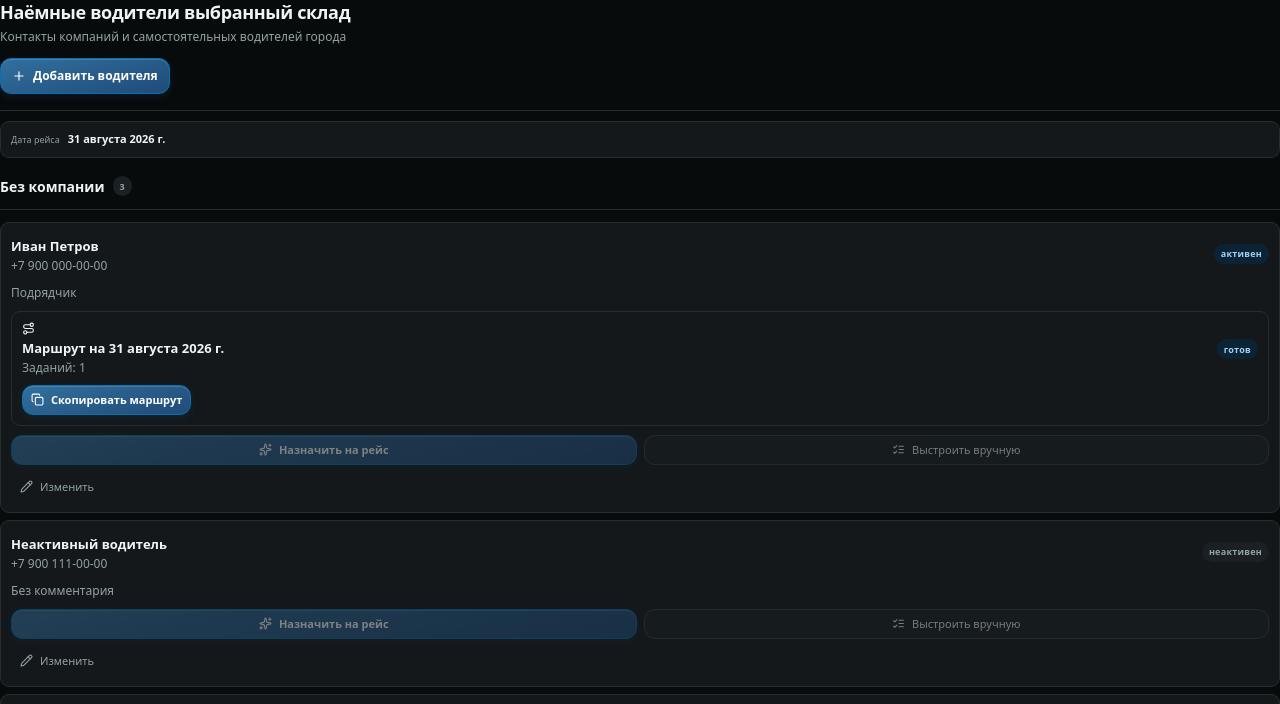
contractor assignment dialog › shows a selectable URL when clipboard access fails and a Russian error when share creation fails
The width and height of the screenshot is (1280, 704).
Click the button "Скопировать маршрут" at (107, 400), box left=22, top=385, right=191, bottom=415
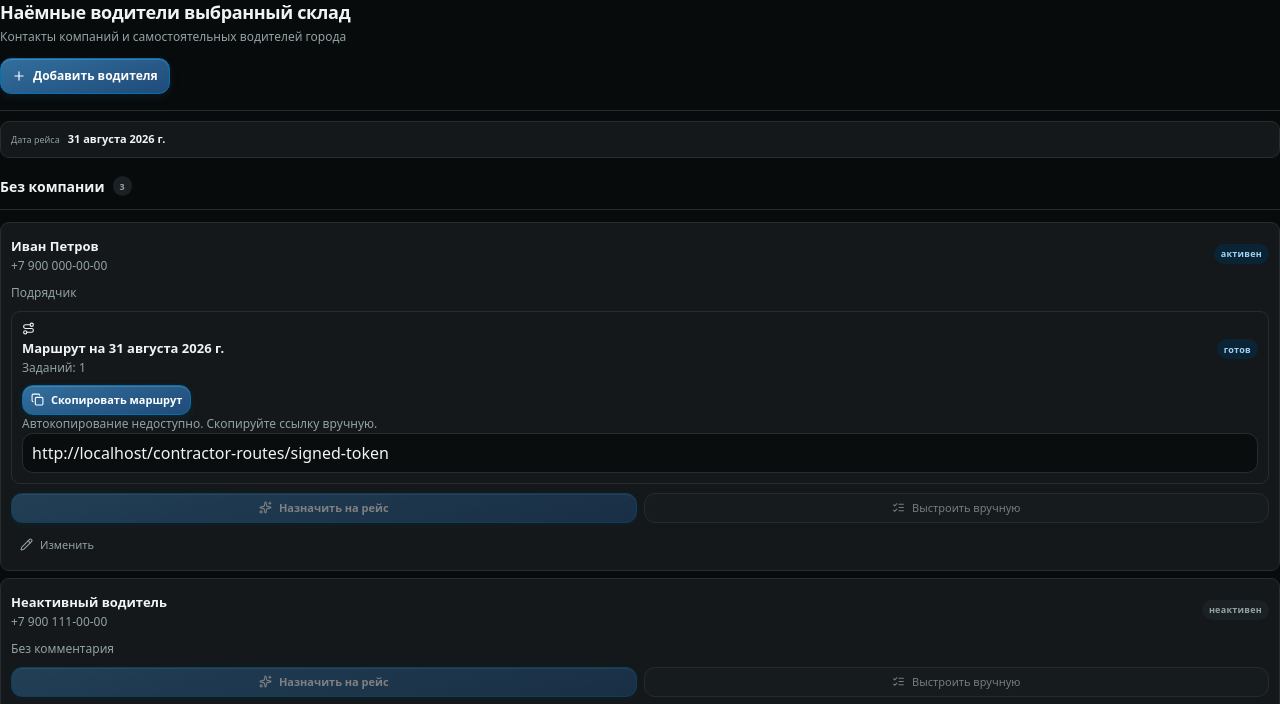
Result: the text "Автокопирование недоступно. Скопируйте ссылку вручную." is shown at left=22, top=415, right=377, bottom=432
Click the button "Скопировать маршрут" at (107, 400), box left=22, top=385, right=191, bottom=415
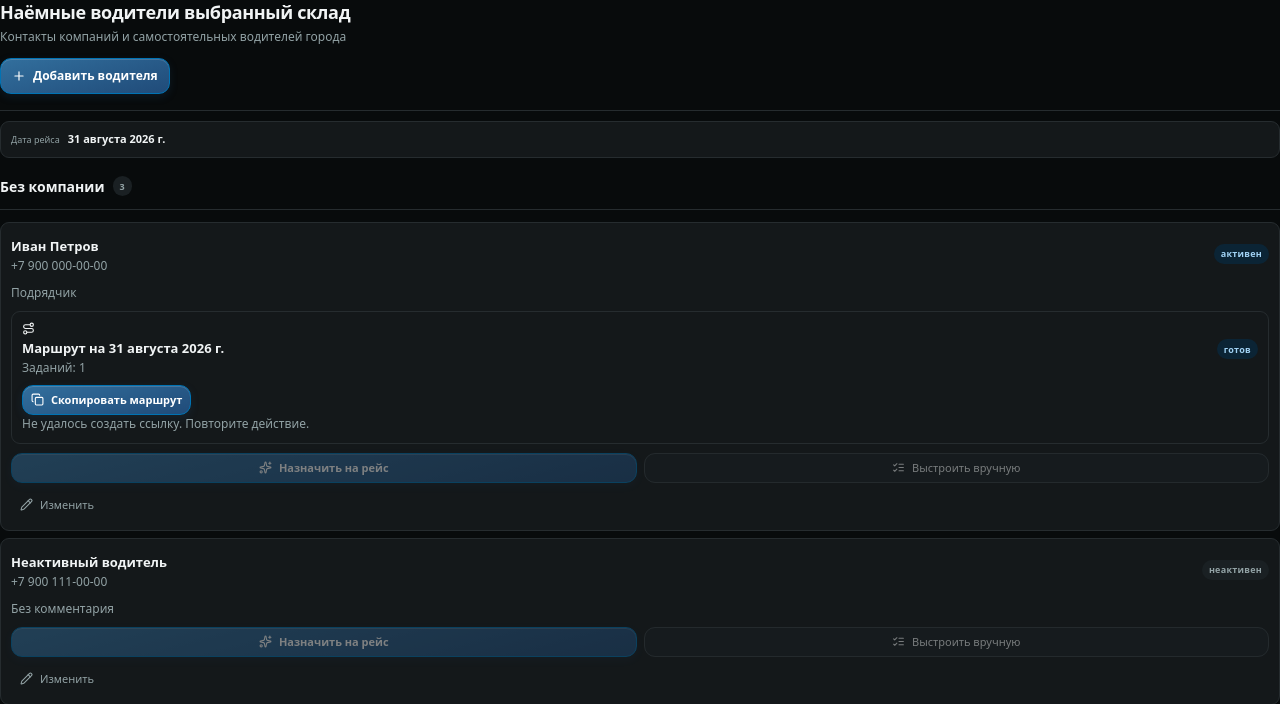
Result: the message shows "Не удалось создать ссылку" at left=22, top=415, right=309, bottom=432
